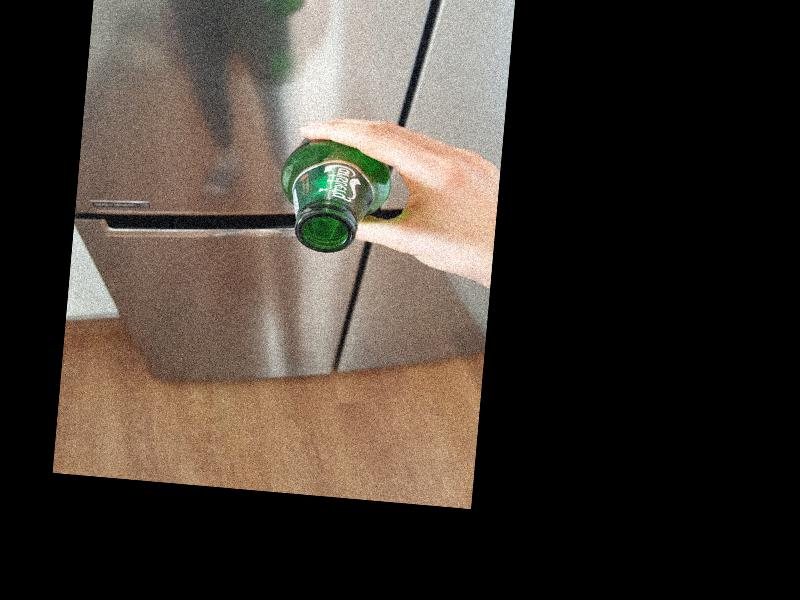Beer: (275, 135, 391, 257)
